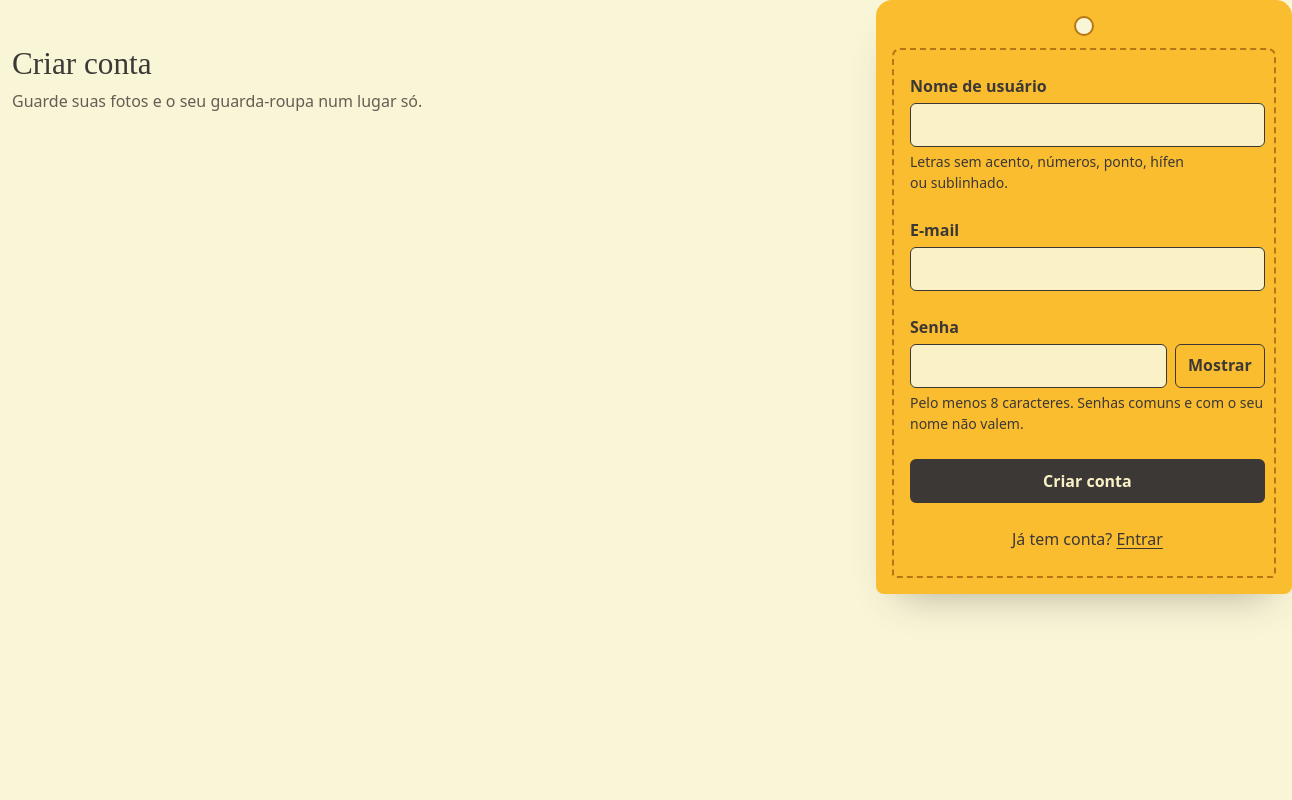
it: cadastro › explica a resposta 409 e mantém os dados do formulário
Type "Joao.Silva" into the field labelled "Nome de usuário" at point(1087, 125), box [910,103,1265,147]
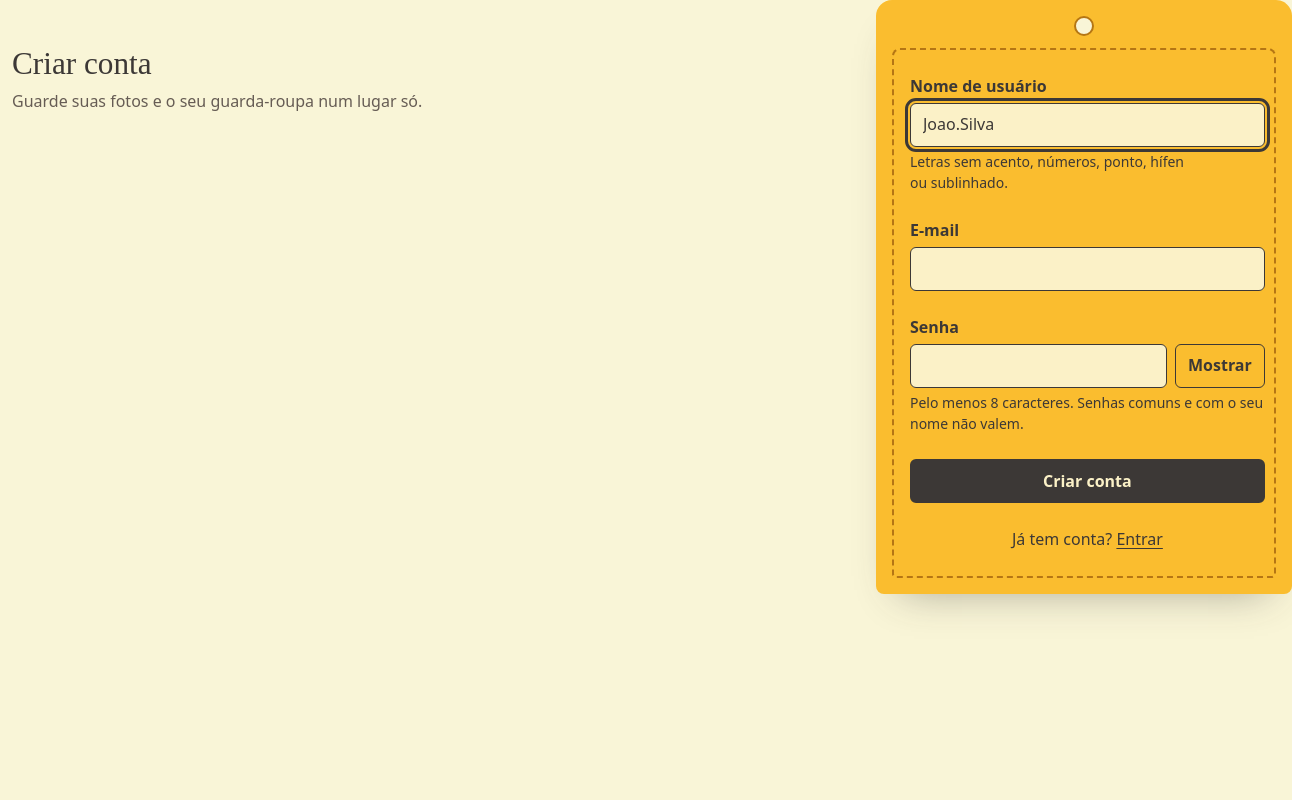
Type "Joao@Example.com" into the field labelled "E-mail" at point(1087, 269), box [910,247,1265,291]
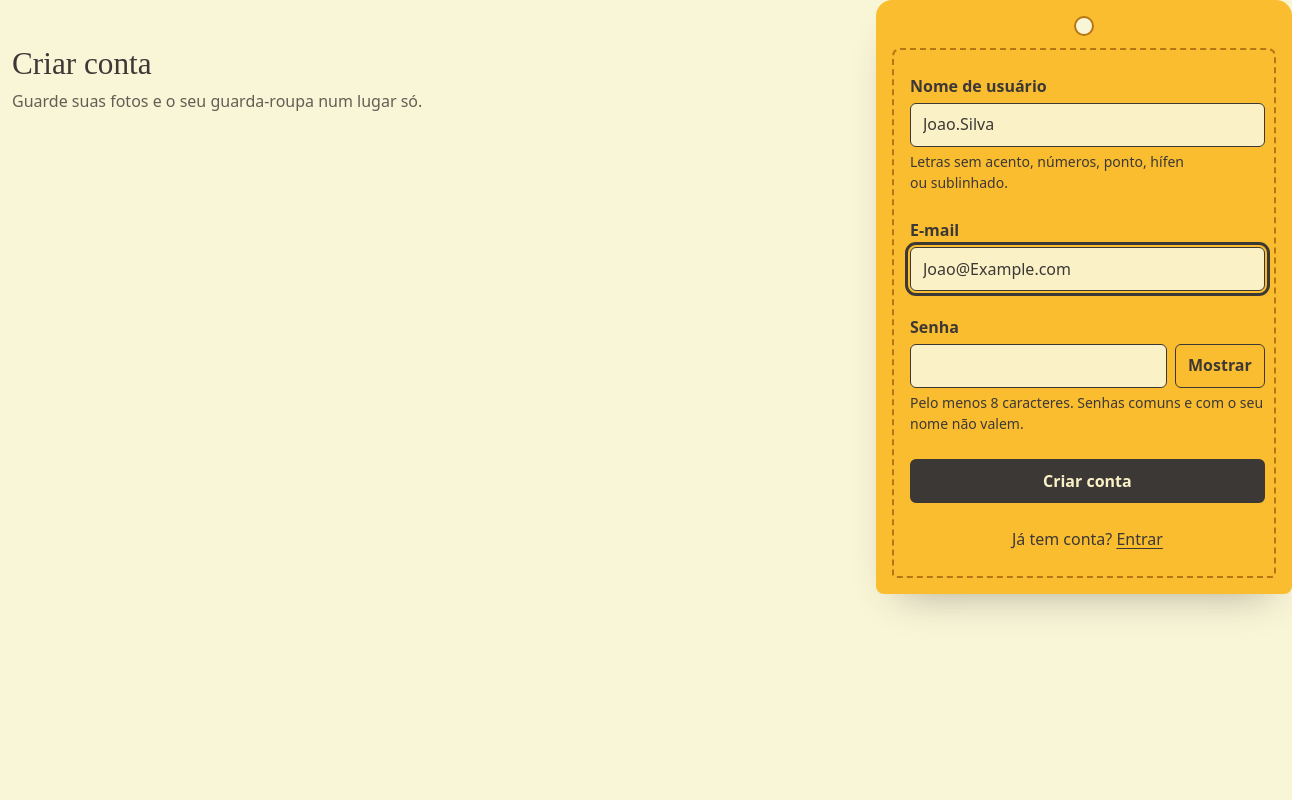
Type "senha-segura" into the password field labelled "Senha" at point(1038, 366), box [910,344,1167,388]
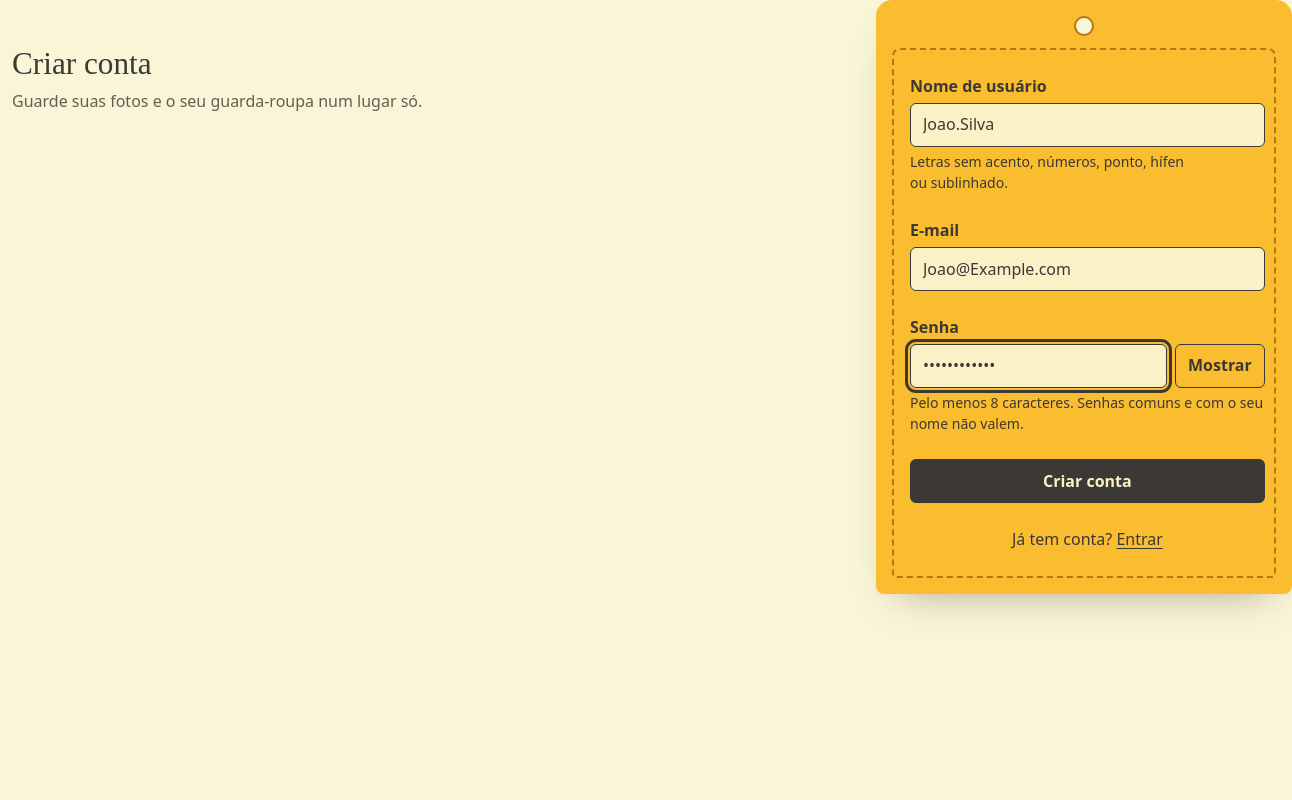
Click the button "Criar conta" at point(1087, 481), box [910,459,1265,503]
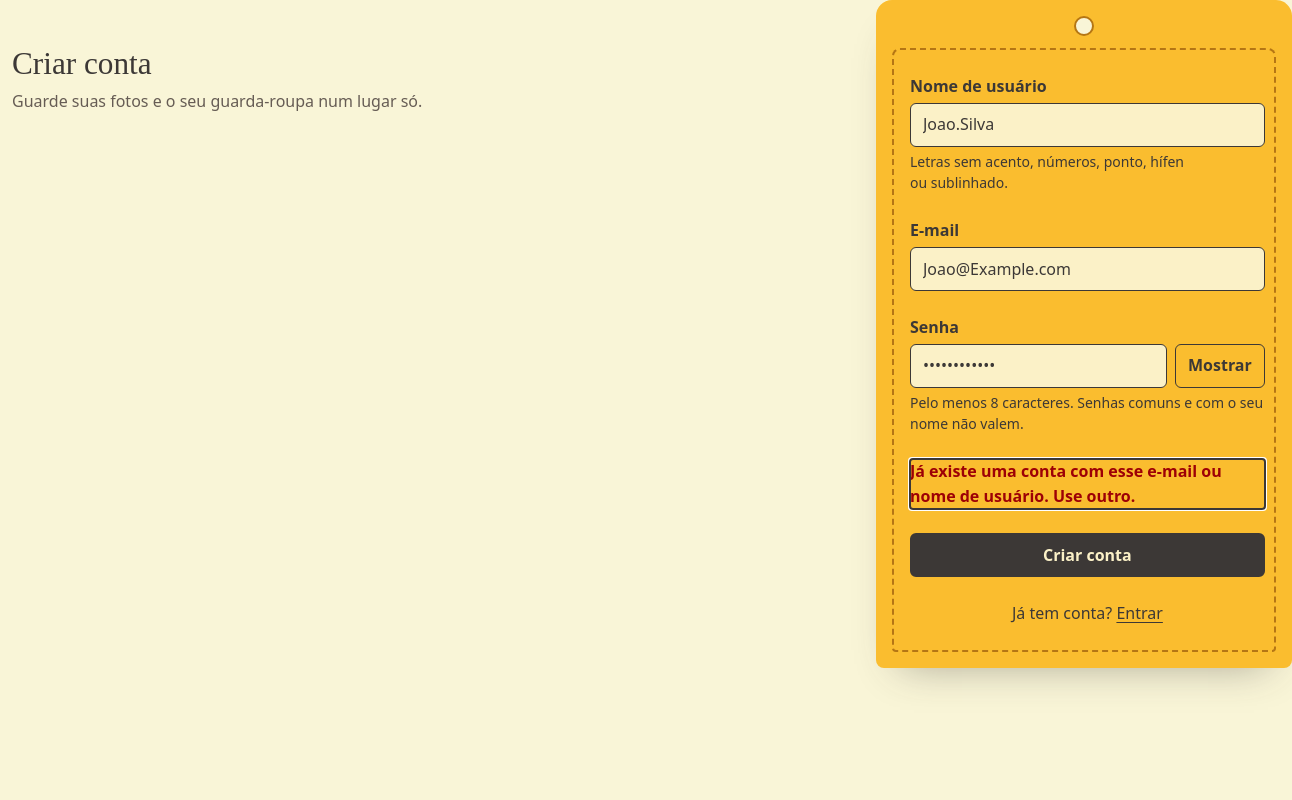
Result: the message reads "Já existe uma conta com esse e-mail ou nome de usuário. Use outro." at [910,460,1222,507]
